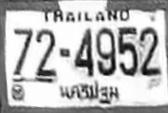2: (139, 26, 159, 76), (35, 28, 55, 78)
4: (73, 28, 93, 76)
5: (117, 26, 137, 75)
7: (12, 27, 32, 76)
9: (95, 27, 115, 75)
NPT: (57, 81, 120, 105)
